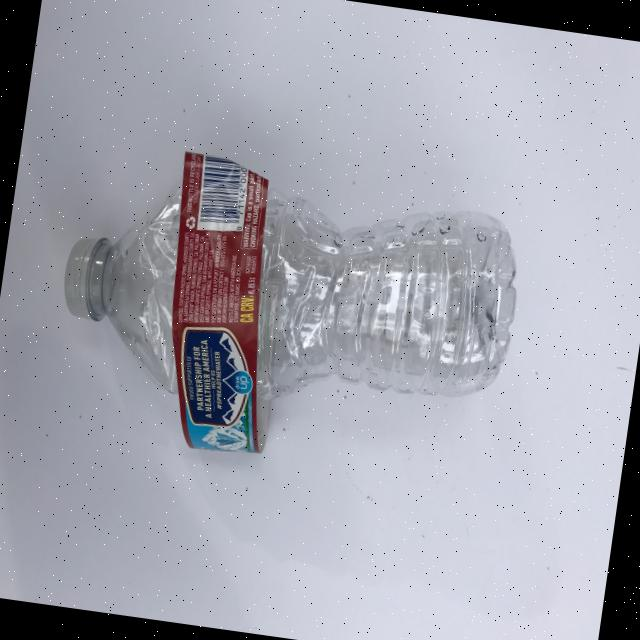plastic: (44, 140, 531, 488)
